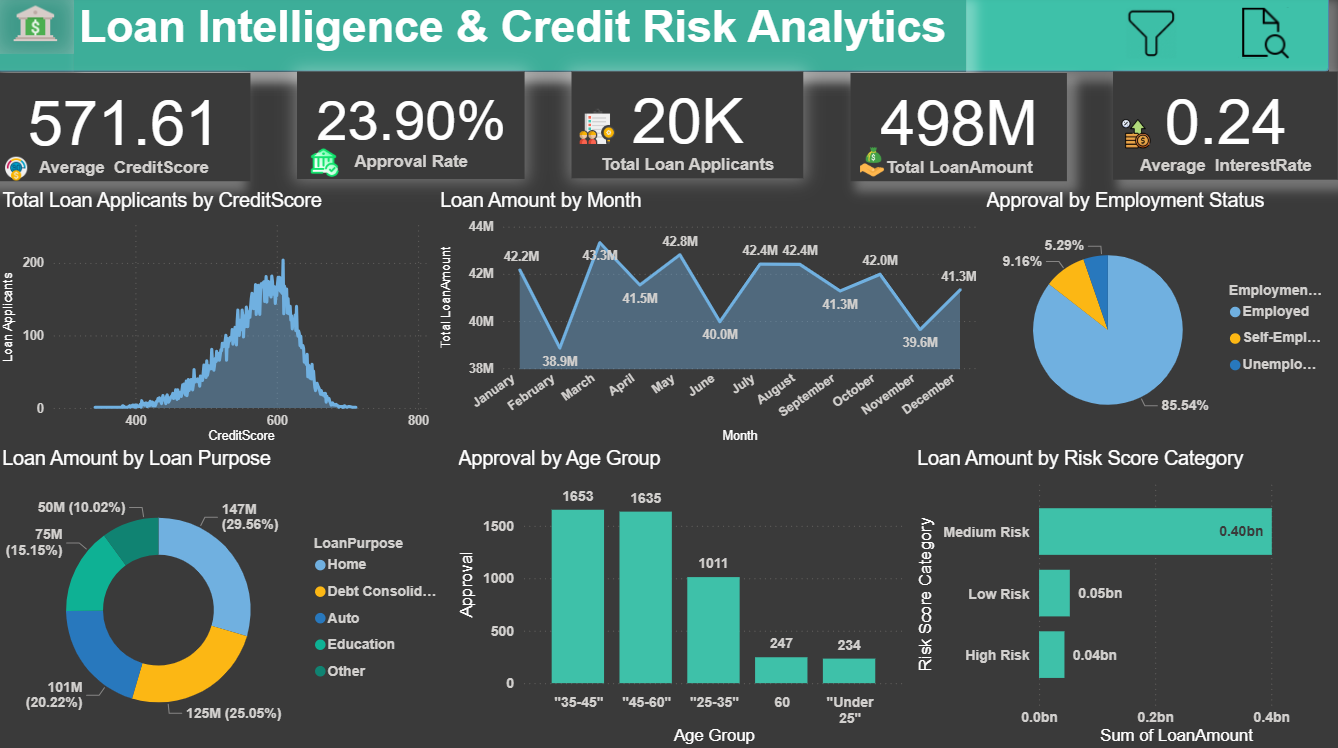

Layout of this report page (visuals, bound fields, positions):
{"tool":"powerbi","page":{"name":"Overview Dashboard","canvas":[1280,720],"ordinal":0},"visuals":[{"type":"pieChart","title":"Approval by Employment Status","fields":{"Category":["Loan.EmploymentStatus"],"Y":["Sum(Loan.Approval_Flag)"]},"box":[939.2,186.2,341.7,246.1],"z":0},{"type":"card","fields":{"Values":["Avg(Loan.Approval_Flag)"]},"box":[286.7,72.5,217.4,102.4],"z":1000,"group":"g3"},{"type":"card","fields":{"Values":["Sum(Loan.LoanAmount)"]},"box":[814.4,74.8,206.8,103.4],"z":1000,"group":"g1"},{"type":"donutChart","title":"Loan Amount by Loan Purpose","fields":{"Category":["Loan.LoanPurpose"],"Y":["Sum(Loan.LoanAmount)"]},"box":[0,432.3,435.6,288.2],"z":1000},{"type":"columnChart","title":" Approval  by Age Group","fields":{"Category":["Loan.Age Group"],"Y":["Sum(Loan.Approval_Flag)"]},"box":[435.6,432.3,435.6,288.2],"z":2000},{"type":"clusteredBarChart","title":" Loan Amount by Risk Score Category","fields":{"Category":["Loan.Risk Score Category"],"Y":["Sum(Loan.LoanAmount)"]},"box":[874.4,432.3,406.4,288.2],"z":3000},{"type":"card","fields":{"Values":["Avg(Loan.CreditScore)"]},"box":[0,74.8,241.8,103.4],"z":4000,"group":"g4"},{"type":"stackedAreaChart","title":"Total Loan Applicants by CreditScore","fields":{"Category":["Loan.CreditScore"],"Y":["CountNonNull(Loan.CreditScore)"]},"box":[0,186.2,417.8,246.1],"z":4000},{"type":"areaChart","title":" Loan Amount by Month","fields":{"Category":["Loan.ApplicationDate.Variation.Date Hierarchy.Month"],"Y":["Sum(Loan.LoanAmount)"]},"box":[417.8,186.2,521.4,246.1],"z":5000},{"type":"shape","box":[0,0,1272,73.1],"z":6000},{"type":"card","fields":{"Values":["Avg(Loan.InterestRate)"]},"box":[1065.3,73.2,214.7,103.4],"z":6000,"group":"g5"},{"type":"textbox","box":[73.2,0,852.6,73.2],"z":7000},{"type":"actionButton","box":[1173.1,0,98.8,73.1],"z":8000},{"type":"card","fields":{"Values":["CountNonNull(Loan.CreditScore)"]},"box":[548.7,73.2,221.1,101.8],"z":8000,"group":"g2"},{"type":"image","box":[0,0,73.1,55.9],"z":9000},{"type":"group","id":"g1","title":"Group 1","box":[814.4,74.8,206.8,111.3],"z":10000},{"type":"group","id":"g2","title":"Group 2","box":[548.7,73.2,221.1,101.8],"z":11000},{"type":"group","id":"g3","title":"Group 3","box":[286.3,72.5,217.8,105.7],"z":12000},{"type":"group","id":"g4","title":"Group 4","box":[0,74.8,241.8,111.3],"z":13000},{"type":"group","id":"g5","title":"Group 5","box":[1065.3,73.2,214.7,103.4],"z":14000},{"type":"actionButton","title":"Slicer Button","box":[1065.7,0,77.9,73.2],"z":15000},{"type":"image","box":[548.7,95.5,49.3,58.9],"z":15000,"group":"g2"},{"type":"image","box":[286.3,138.4,50.9,39.8],"z":16000,"group":"g3"},{"type":"actionButton","box":[0,55.9,73.1,17.2],"z":17000},{"type":"image","box":[814.4,133.7,41.4,52.5],"z":17000,"group":"g1"},{"type":"image","box":[0,146.4,36.6,39.8],"z":17000,"group":"g4"},{"type":"image","box":[1065.3,113,44.5,38.2],"z":18000,"group":"g5"}]}

Visuals, with their boxes in screenshot pixels (x1, y1, x2, y2), scaled from the page's 1280x720 canvas onto the 1338x748 screenshot:
"Approval by Employment Status" pieChart: [982, 193, 1337, 449]
card - Avg(Loan.Approval_Flag): [300, 75, 527, 182]
card - Sum(Loan.LoanAmount): [851, 78, 1067, 185]
"Loan Amount by Loan Purpose" donutChart: [0, 449, 455, 747]
" Approval  by Age Group" columnChart: [455, 449, 911, 747]
" Loan Amount by Risk Score Category" clusteredBarChart: [914, 449, 1337, 747]
card - Avg(Loan.CreditScore): [0, 78, 253, 185]
"Total Loan Applicants by CreditScore" stackedAreaChart: [0, 193, 437, 449]
" Loan Amount by Month" areaChart: [437, 193, 982, 449]
shape: [0, 0, 1330, 76]
card - Avg(Loan.InterestRate): [1114, 76, 1337, 183]
textbox: [77, 0, 968, 76]
actionButton: [1226, 0, 1330, 76]
card - CountNonNull(Loan.CreditScore): [574, 76, 805, 182]
image: [0, 0, 76, 58]
"Group 1" group: [851, 78, 1067, 193]
"Group 2" group: [574, 76, 805, 182]
"Group 3" group: [299, 75, 527, 185]
"Group 4" group: [0, 78, 253, 193]
"Group 5" group: [1114, 76, 1337, 183]
"Slicer Button" actionButton: [1114, 0, 1195, 76]
image: [574, 99, 625, 160]
image: [299, 144, 352, 185]
actionButton: [0, 58, 76, 76]
image: [851, 139, 895, 193]
image: [0, 152, 38, 193]
image: [1114, 117, 1160, 157]
